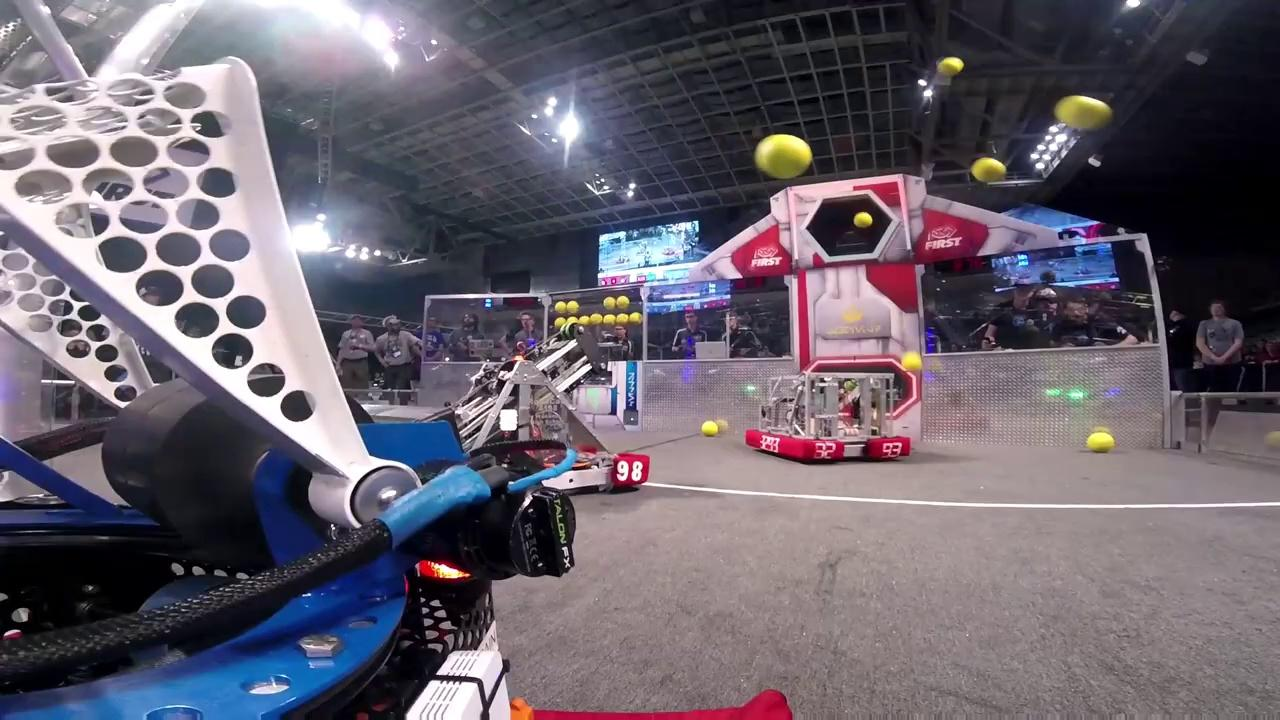robot: (441, 320, 654, 505), (742, 369, 912, 469)
